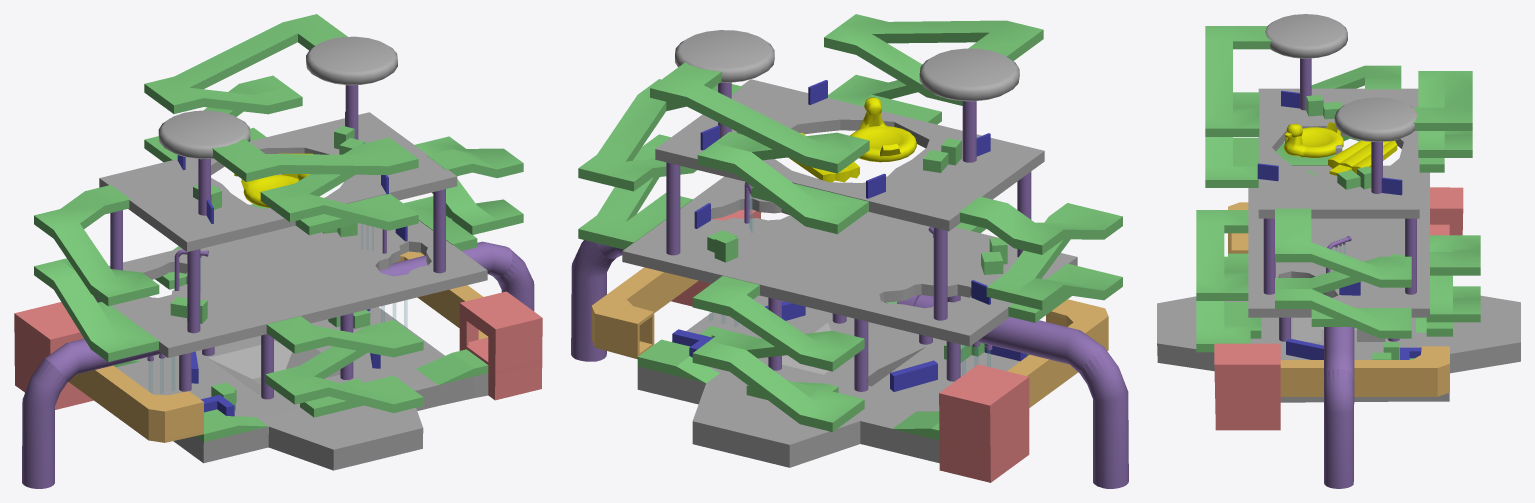
File: Level_base_prototype_1.5.fbx
3 renders of one model, left to right at view 1: azimuth 30°, elevation 25°; view 2: azimuth 150°, elevation 25°; view 3: azimuth 270°, elevation 25°, orthographic. The views are drawn at different scales.
Parts seen in each view (by area): view 1: level_base_1, level_base_2, level_base_3, Ramp_4, Ramp_7, Ramp_2, Ramp_8, Ramp_3, PIpe_L, platform2, platform1, Pipe_R (+7 smaller); view 2: level_base_1, level_base_2, level_base_3, Ramp_8, Ramp_1, Ramp_4, Ramp_7, Ramp_3, PIpe_L, platform1, platform2, Pipe_R (+10 smaller); view 3: level_base_1, level_base_3, level_base_2, Ramp_3, Ramp_7, Ramp_2, Ramp_8, Pipe_R, Ramp_1, platform2, platform1, Ramp_4 (+7 smaller).
Part boxes in pixels (x1=…): level_base_1: x1=14, y1=251, x2=542, y2=470; level_base_2: x1=93, y1=220, x2=487, y2=357; level_base_3: x1=99, y1=112, x2=457, y2=251; Ramp_4: x1=34, y1=185, x2=159, y2=361; Ramp_7: x1=212, y1=137, x2=418, y2=235; Ramp_2: x1=265, y1=316, x2=423, y2=417; Ramp_8: x1=144, y1=14, x2=347, y2=162; Ramp_3: x1=403, y1=136, x2=523, y2=250; PIpe_L: x1=22, y1=339, x2=165, y2=488; platform2: x1=306, y1=36, x2=397, y2=85; platform1: x1=158, y1=110, x2=250, y2=159; Pipe_R: x1=379, y1=241, x2=534, y2=311; level_base_1: x1=591, y1=209, x2=1108, y2=482; level_base_2: x1=622, y1=176, x2=1077, y2=346; level_base_3: x1=655, y1=79, x2=1044, y2=231; Ramp_8: x1=650, y1=62, x2=869, y2=234; Ramp_1: x1=692, y1=276, x2=864, y2=432; Ramp_4: x1=959, y1=196, x2=1122, y2=322; Ramp_7: x1=824, y1=14, x2=1043, y2=124; Ramp_3: x1=578, y1=79, x2=742, y2=249; PIpe_L: x1=897, y1=295, x2=1128, y2=488; platform1: x1=919, y1=48, x2=1019, y2=101; platform2: x1=675, y1=30, x2=774, y2=82; Pipe_R: x1=571, y1=240, x2=623, y2=361; level_base_1: x1=1157, y1=187, x2=1520, y2=430; level_base_3: x1=1258, y1=88, x2=1419, y2=218; level_base_2: x1=1248, y1=165, x2=1429, y2=317; Ramp_3: x1=1275, y1=208, x2=1411, y2=338; Ramp_7: x1=1205, y1=26, x2=1271, y2=187; Ramp_2: x1=1196, y1=210, x2=1261, y2=352; Ramp_8: x1=1413, y1=71, x2=1472, y2=172; Pipe_R: x1=1324, y1=327, x2=1354, y2=488; Ramp_1: x1=1416, y1=235, x2=1480, y2=336; platform2: x1=1334, y1=97, x2=1417, y2=142; platform1: x1=1265, y1=14, x2=1347, y2=58; Ramp_4: x1=1276, y1=65, x2=1401, y2=165.
Size of the model in its own units: 2139 by 1333 by 1443.
